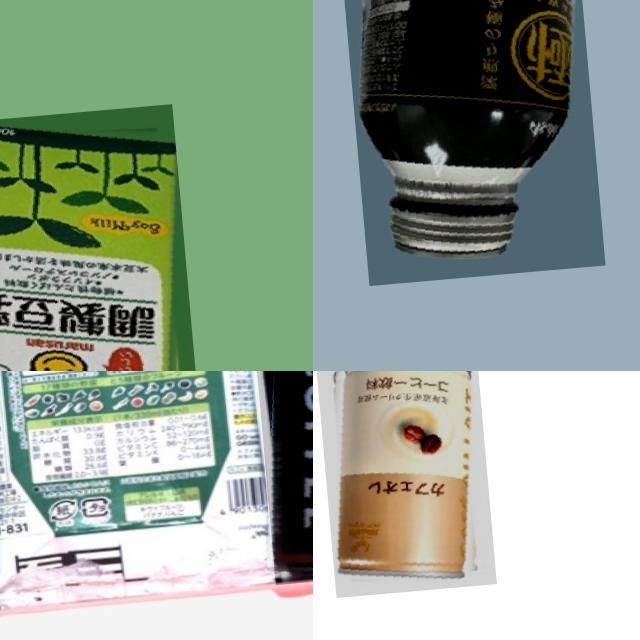Aluminium Foil: (0, 371, 287, 609), (0, 102, 200, 371)
Can: (334, 0, 604, 284), (313, 371, 495, 596), (252, 371, 313, 584)
